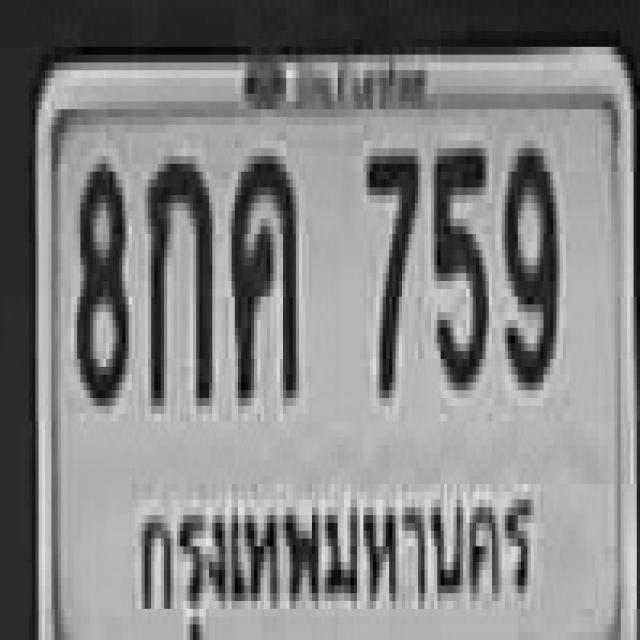10GorGai: (145, 148, 209, 398)
13KhorKhwai: (228, 148, 296, 398)
5: (431, 140, 486, 382)
7: (363, 140, 415, 390)
8: (74, 156, 125, 398)
9: (502, 140, 556, 382)
Bangkok: (130, 467, 532, 626)
